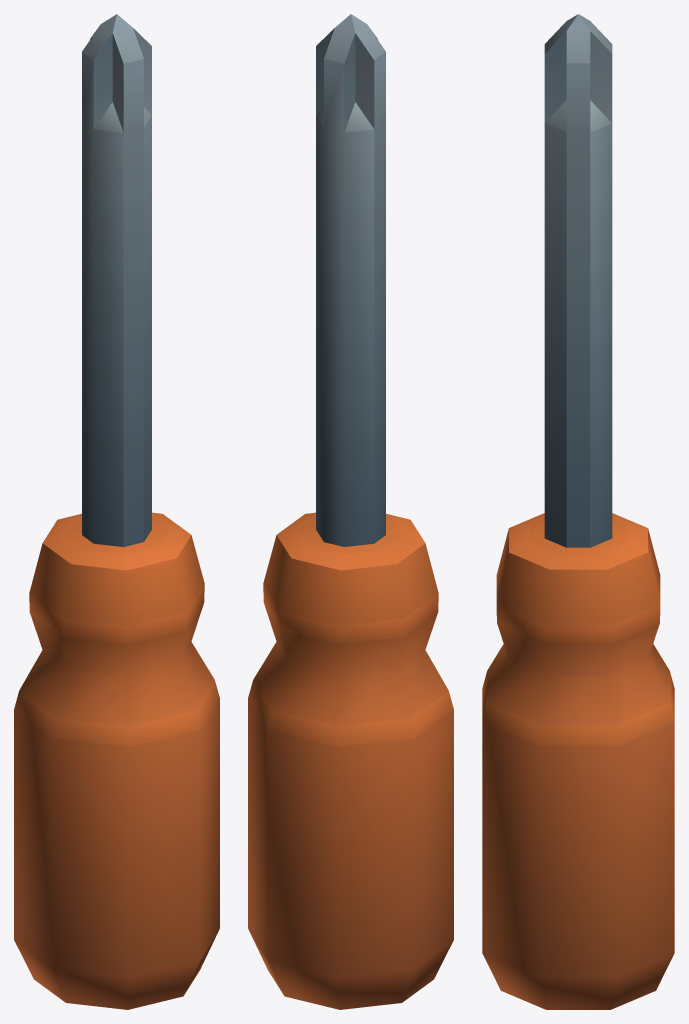
File: screwdriver_b_long_color.glb
3 renders of one model, left to right at view 1: azimuth 30°, elevation 25°; view 2: azimuth 150°, elevation 25°; view 3: azimuth 270°, elevation 25°, orthographic.
Visible parts, largest first — view 1: screwdriver_B_long_color; view 2: screwdriver_B_long_color; view 3: screwdriver_B_long_color.
Part boxes in pixels (x1,y1,x2,y2): screwdriver_B_long_color: [14, 14, 219, 1009]; screwdriver_B_long_color: [248, 14, 453, 1009]; screwdriver_B_long_color: [482, 14, 674, 1009].
Bounding box in the file's own units: 0.1513 × 0.8536 × 0.1513.
1 material, 1 textured.
